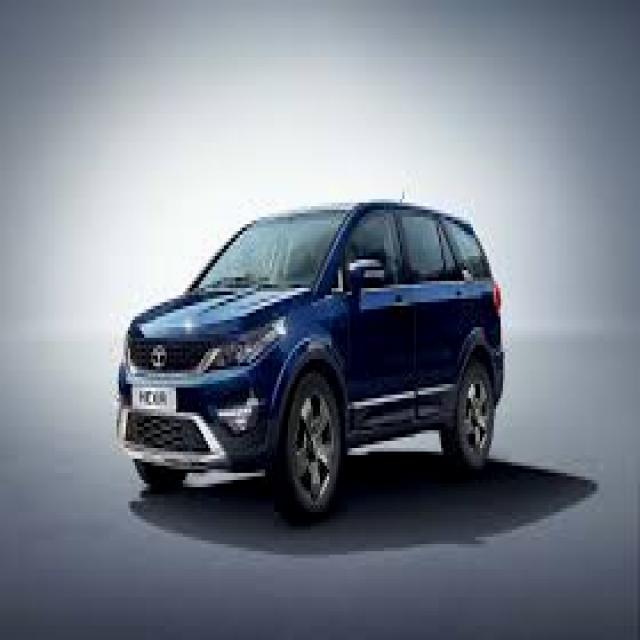SUV: (112, 200, 504, 528)
